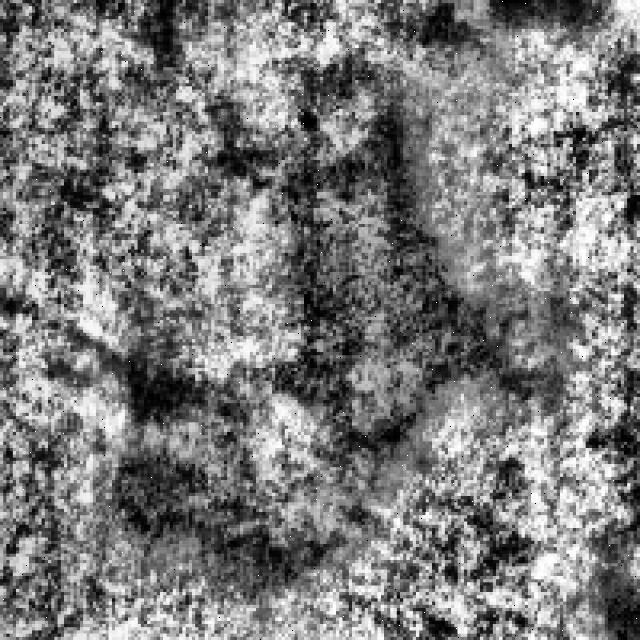Scratches: (215, 36, 538, 487), (80, 403, 352, 592)
